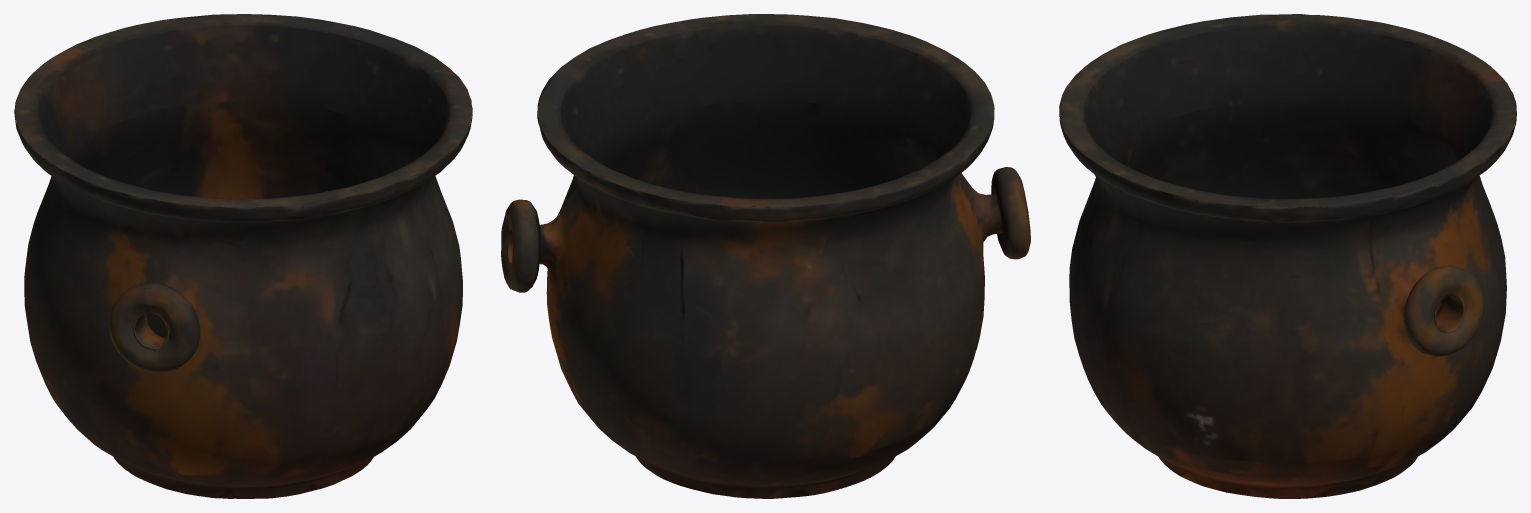
The model's file is olla_escoria.glb.
3 renders of one model, left to right at view 1: azimuth 30°, elevation 25°; view 2: azimuth 150°, elevation 25°; view 3: azimuth 270°, elevation 25°, orthographic.
Visible parts, largest first — view 1: geometry_0; view 2: geometry_0; view 3: geometry_0.
Part boxes in pixels (left/top/right/bottom): geometry_0: left=14, top=14, right=472, bottom=498; geometry_0: left=501, top=14, right=1030, bottom=498; geometry_0: left=1059, top=14, right=1516, bottom=498.
Size of the model in its own units: 2.1 by 1.68 by 2.1.
Materials: 1 (1 with a texture image).
